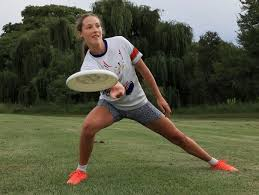disc: (64, 70, 119, 92)
